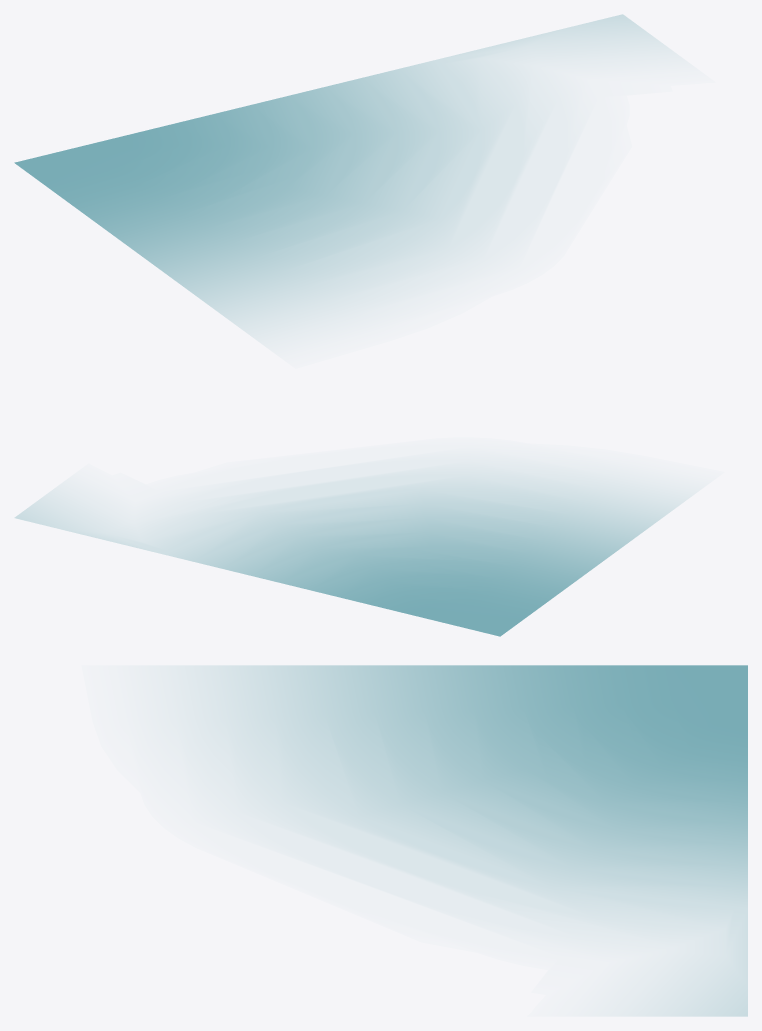
The picture shows the model from 3 angles, top to bottom: view 1: azimuth 30°, elevation 25°; view 2: azimuth 150°, elevation 25°; view 3: azimuth 270°, elevation 25°; orthographic projection. The views are drawn at different scales.
Parts seen in each view (by area): view 1: city; view 2: city; view 3: city.
Part boxes in pixels (x1,y1,x2,y2): city: (14, 14, 671, 337); city: (15, 465, 690, 636); city: (181, 665, 747, 1016).
Bounding box in the file's own units: 500 × 0 × 441.
